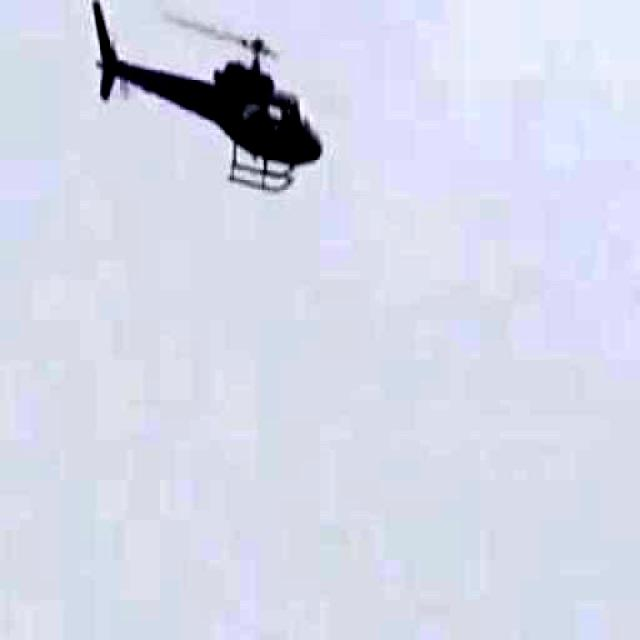drone: (80, 0, 330, 216)
